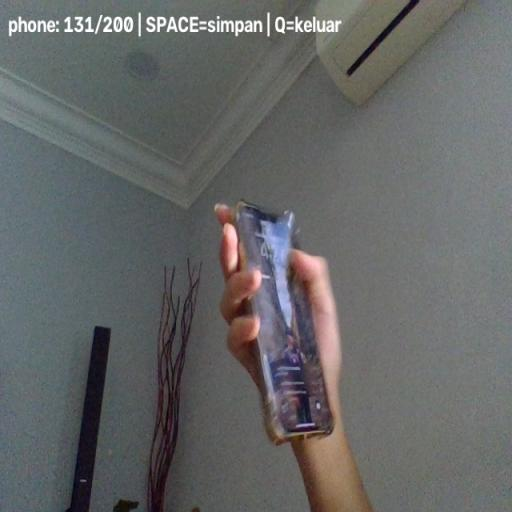Phone: (229, 202, 333, 444)
